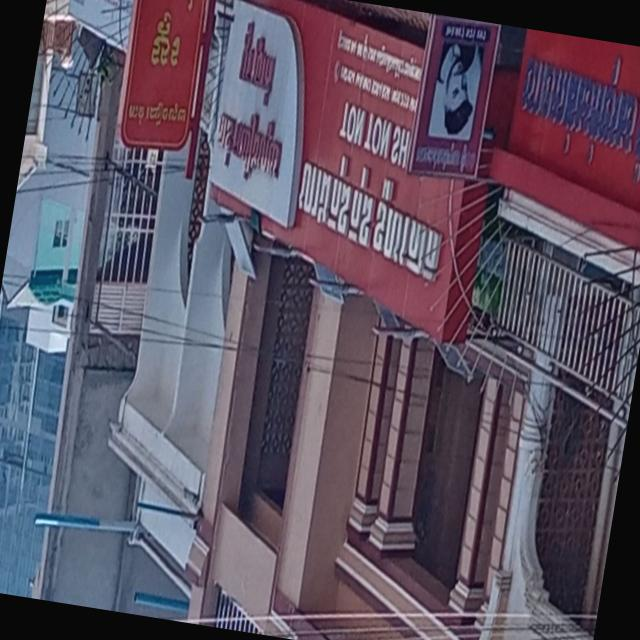Yolov11kh: (288, 131, 463, 301), (136, 0, 201, 80)
